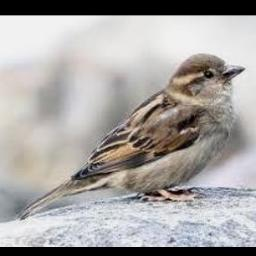Sparrow: (16, 53, 244, 220)
